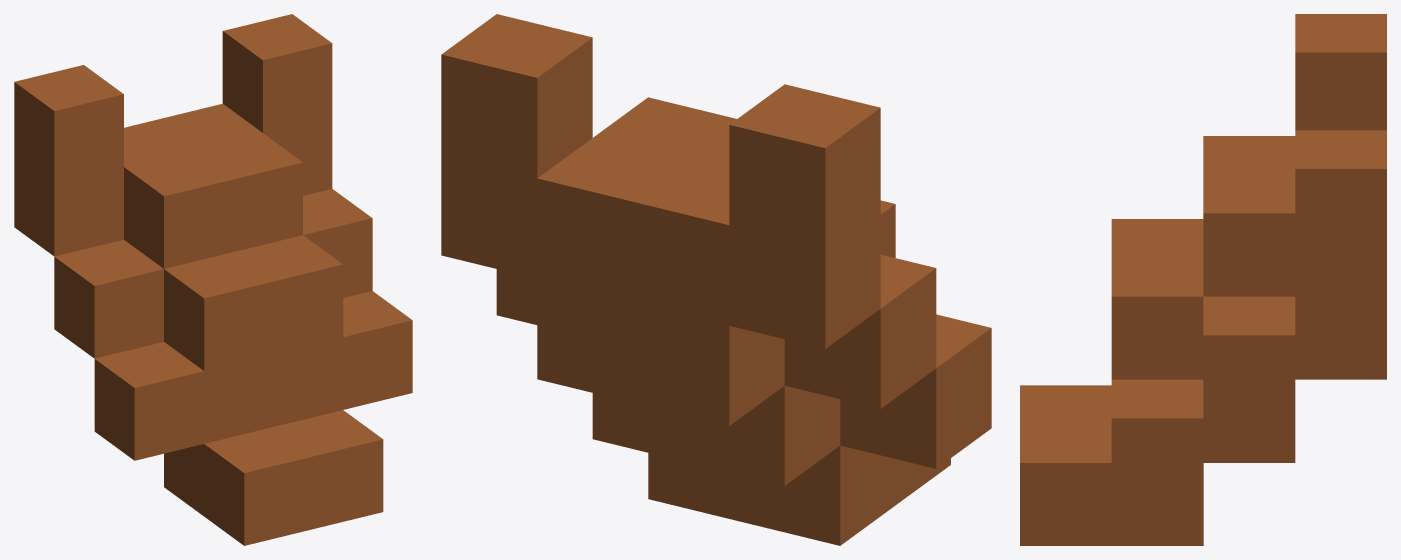
Rendered from luzlaranja-p.obj.
3 renders of one model, left to right at view 1: azimuth 30°, elevation 25°; view 2: azimuth 150°, elevation 25°; view 3: azimuth 270°, elevation 25°, orthographic. The views are drawn at different scales.
Bounding box in the file's own units: 0.4 × 0.5 × 0.4.
1 material, 1 textured.
